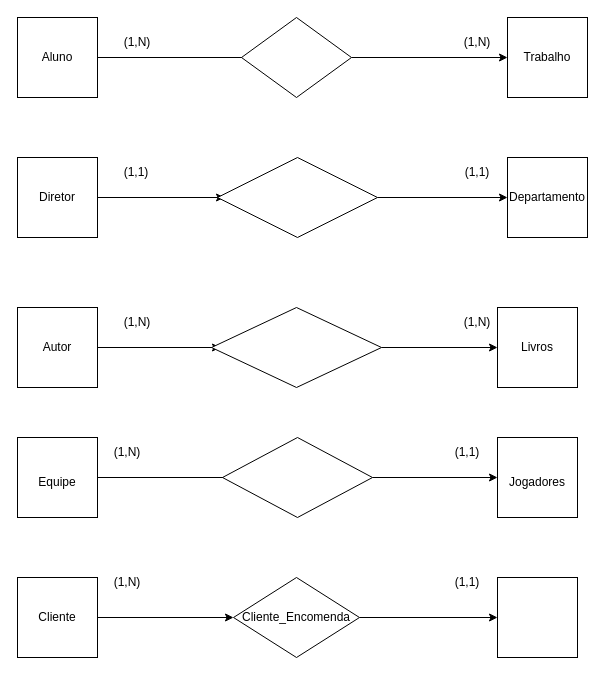
This 605x675 diagram has some shape labels left out. Here are the shapes that lost their labels. From the top down, the box of each, then its label:
(240, 16, 352, 98): Aluno_Trabalho
(216, 156, 378, 238): Diretor_Departamento
(210, 306, 382, 388): Autor_Livros
(222, 436, 372, 518): Equipe_Jogadores
(496, 576, 578, 658): Encomendas
